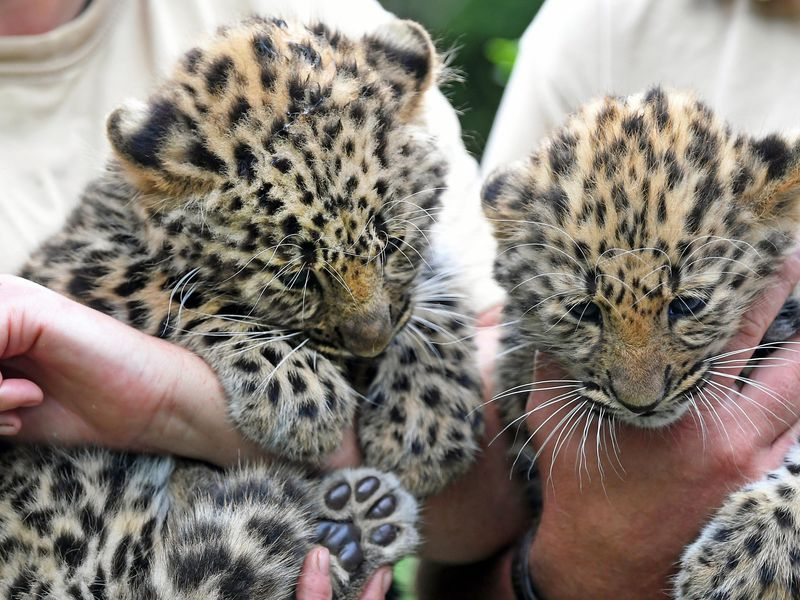amur_leopard: (473, 34, 800, 446), (88, 10, 460, 364)
